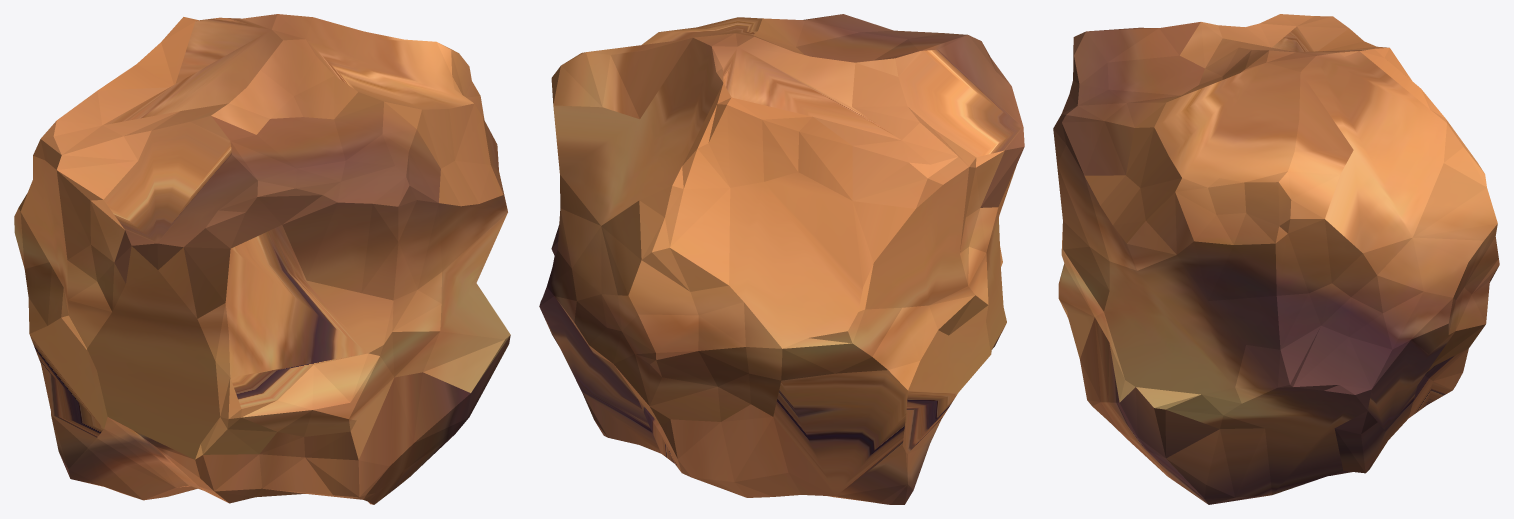
The model's file is rock.fbx.
The picture shows the model from 3 angles, left to right: view 1: azimuth 30°, elevation 25°; view 2: azimuth 150°, elevation 25°; view 3: azimuth 270°, elevation 25°; orthographic projection. The views are drawn at different scales.
Parts seen in each view (by area): view 1: Cube; view 2: Cube; view 3: Cube.
Part boxes in pixels (x1,y1,x2,y2): Cube: (14,14,510,504); Cube: (539,14,1024,504); Cube: (1053,14,1499,504).
Bounding box in the file's own units: 318 × 317 × 308.
